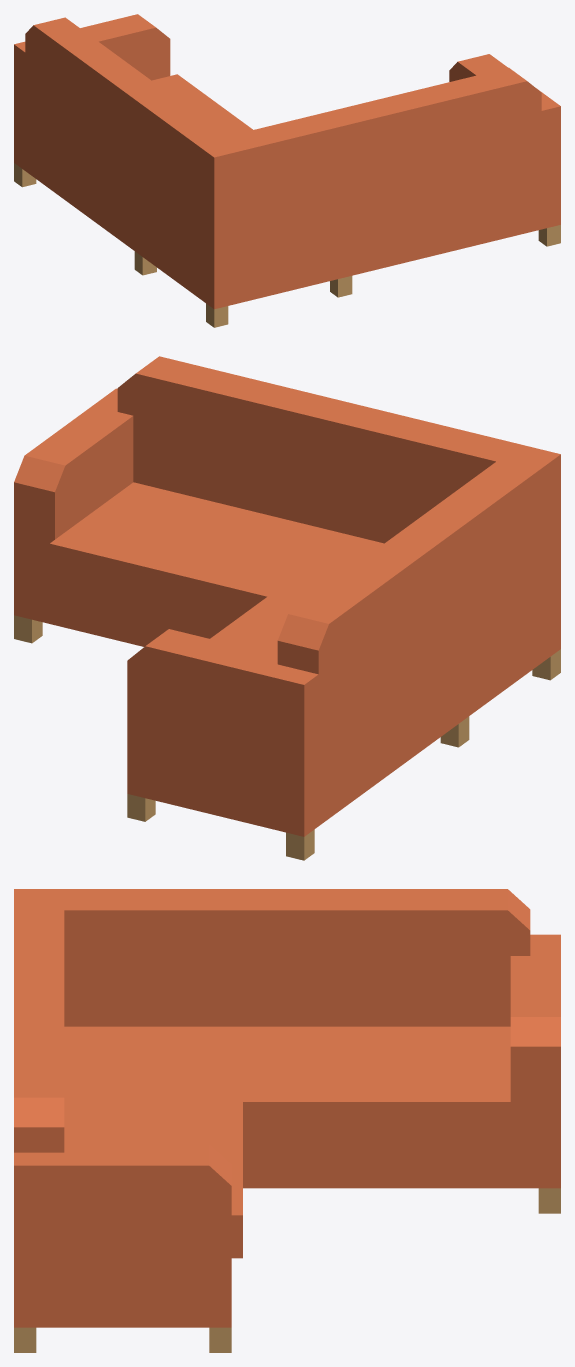
Rendered from loungeSofaCorner.glb.
3 renders of one model, top to bottom at view 1: azimuth 30°, elevation 25°; view 2: azimuth 150°, elevation 25°; view 3: azimuth 270°, elevation 25°, orthographic. The views are drawn at different scales.
Bounding box in the file's own units: 9.8 × 4.6 × 9.8.
